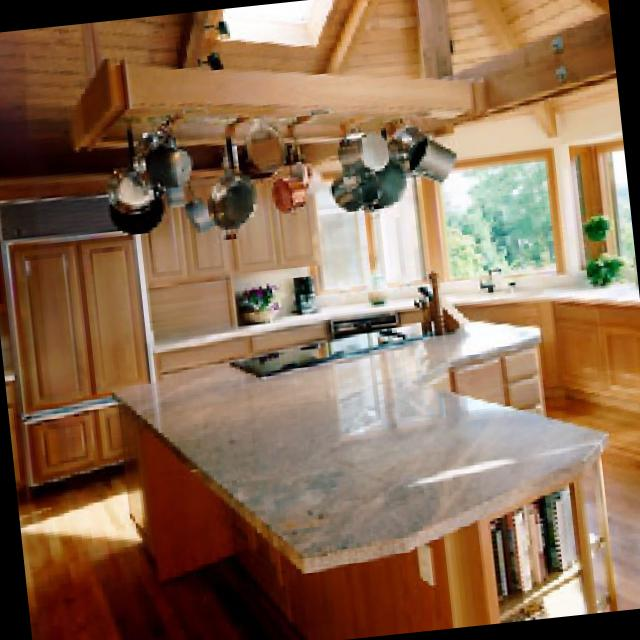2001: (427, 149, 566, 280), (320, 172, 426, 289), (576, 140, 636, 264), (222, 0, 335, 43)
books crop: (494, 482, 579, 597)
cabinet door: (151, 274, 242, 339)
cabinets: (120, 399, 475, 640), (461, 298, 640, 409), (136, 175, 321, 280), (157, 319, 329, 374), (434, 347, 548, 409)
coffee maker: (298, 272, 321, 309)
counter bottom: (116, 317, 611, 558)
dishwasher: (332, 307, 399, 336)
floor -X: (22, 468, 311, 640), (556, 398, 640, 594)
hanging pan: (213, 136, 262, 234), (107, 159, 169, 233), (273, 120, 310, 209), (187, 178, 217, 227)
hanging pot rack: (410, 135, 461, 181), (333, 160, 383, 206), (368, 156, 410, 208), (147, 138, 193, 185), (343, 126, 391, 171)
hanging rack: (69, 53, 473, 146)
knife holdrer: (416, 281, 473, 326)
object: (256, 252, 317, 301)
pepper: (430, 267, 449, 328)
plant -x: (584, 215, 628, 281), (241, 282, 286, 323)
refrigerator: (1, 189, 155, 484)
shelves crop: (467, 456, 624, 617)
sink basin: (453, 284, 547, 296)
sink occluded: (479, 261, 520, 289)
stove burner: (237, 324, 427, 378)
vase -X: (369, 265, 390, 302)
wall outlets: (419, 540, 438, 584)
